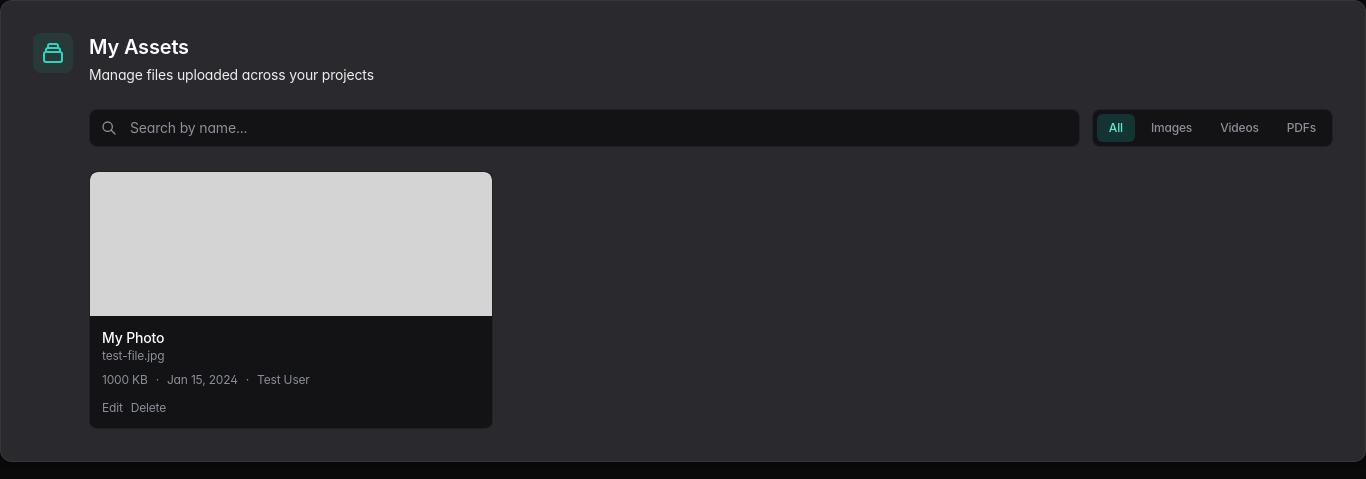
Test: MyAssets › edit button shows inline input for owned assets
This screenshot has width=1366, height=479.
Expected: the text "My Photo" is shown, top-left (102, 328), bottom-right (164, 348)
What coordinates should you click on to do the following:
click the button titled "Edit alt text"
I would click on:
 (112, 408)
Its box is top-left (102, 400), bottom-right (123, 416).
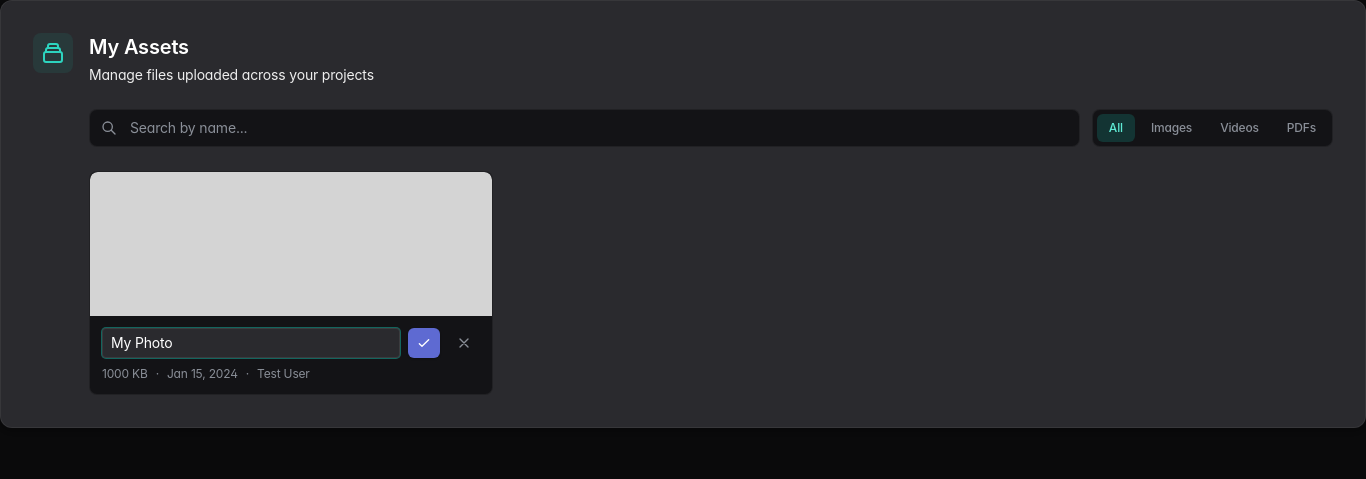
Result: the field with placeholder "Alt text..." is shown at top-left (102, 328), bottom-right (400, 358)
